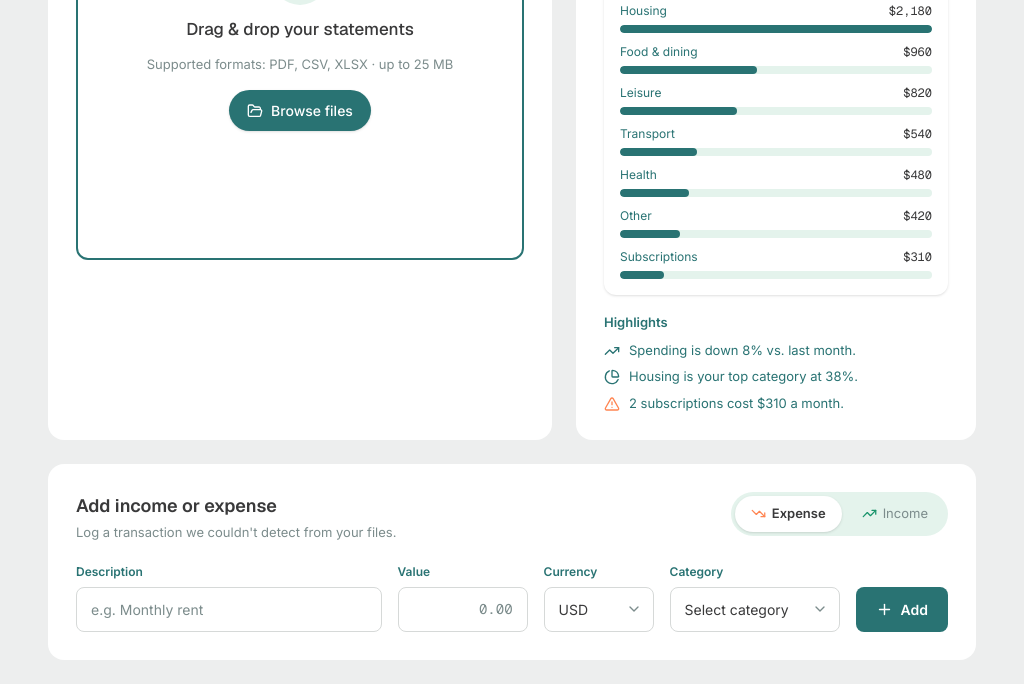
Test: adding a transaction › says so when the write fails, and adds nothing
(page scrolled)
Type "Groceries — Whole Foods" into the field labelled "Description" at [229, 609], box x1=76 y1=587 x2=382 y2=632
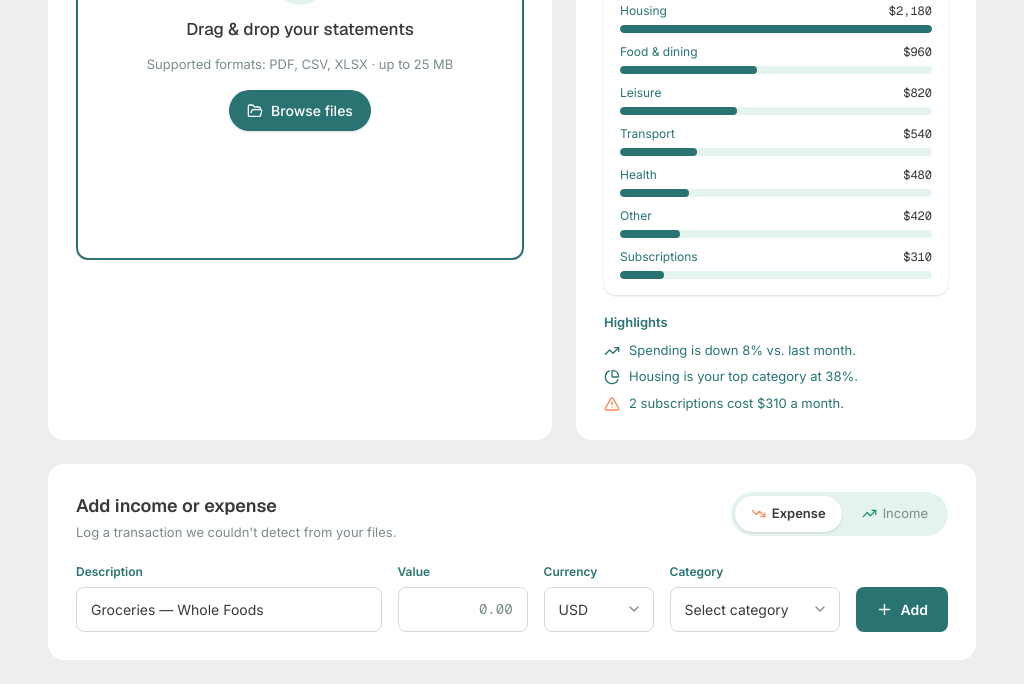
Type "142.30" into the field labelled "Value" at [462, 609], box x1=398 y1=587 x2=528 y2=632
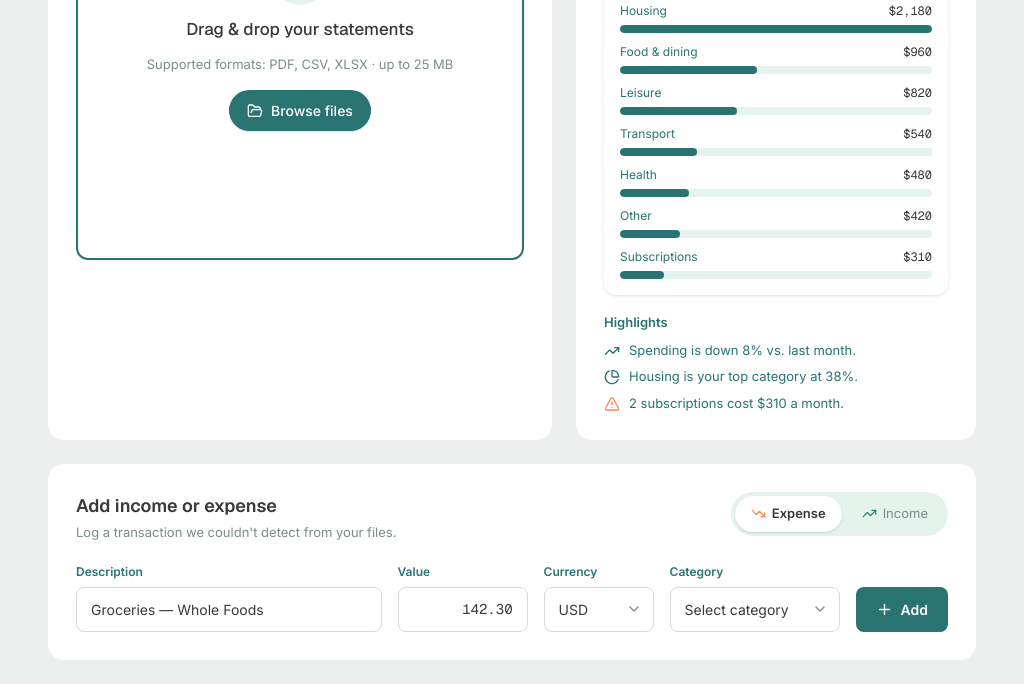
Select "Food & dining" in the dropdown labelled "Category" at [754, 609], box x1=670 y1=587 x2=840 y2=632
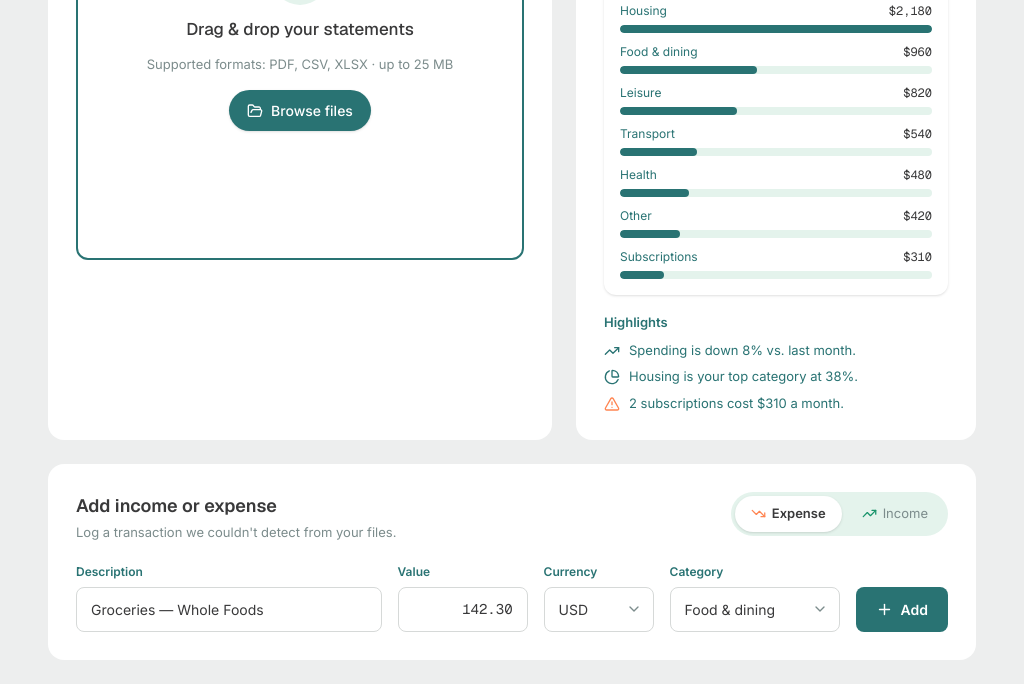
Click the button "Add" at [902, 609], box x1=856 y1=587 x2=948 y2=632
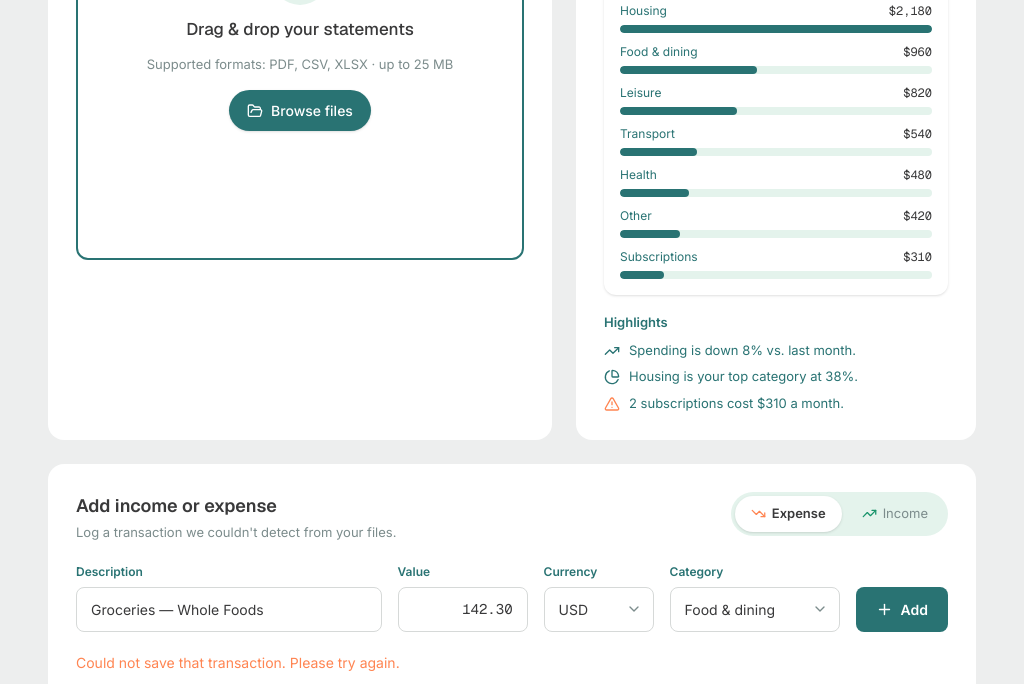
Result: the message shows "Could not save" at x1=76 y1=654 x2=400 y2=671
